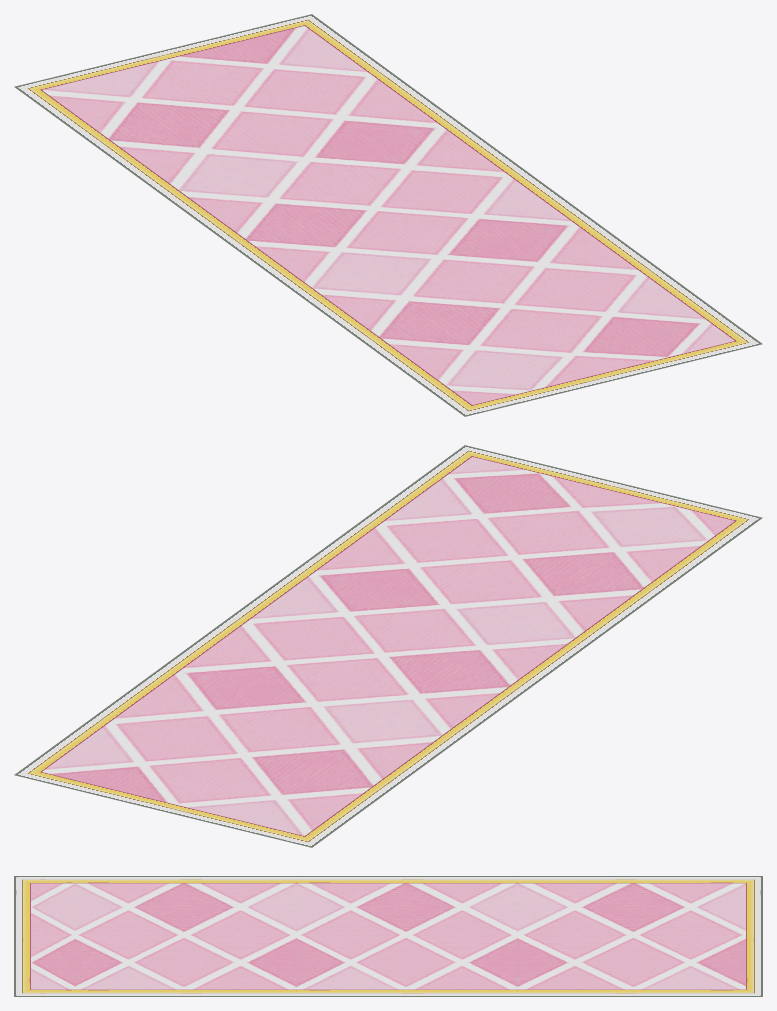
The model's file is my_sunshineresort_01_carpet_03.glb.
The picture shows the model from 3 angles, top to bottom: view 1: azimuth 30°, elevation 25°; view 2: azimuth 150°, elevation 25°; view 3: azimuth 270°, elevation 25°; orthographic projection. The views are drawn at different scales.
Parts seen in each view (by area): view 1: my_sunshineresort_01_carpet_03; view 2: my_sunshineresort_01_carpet_03; view 3: my_sunshineresort_01_carpet_03.
Boxes of the visible parts, bbox=[...] form: my_sunshineresort_01_carpet_03: bbox=[14, 14, 762, 416]; my_sunshineresort_01_carpet_03: bbox=[14, 445, 762, 847]; my_sunshineresort_01_carpet_03: bbox=[14, 876, 762, 996].
Size of the model in its own units: 0.0102 by 0 by 0.0268.
1 material, 1 textured.
